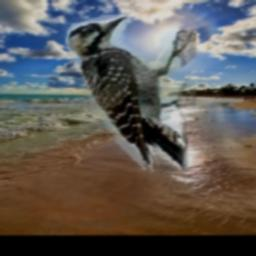Woodpecker: (64, 16, 197, 173)
